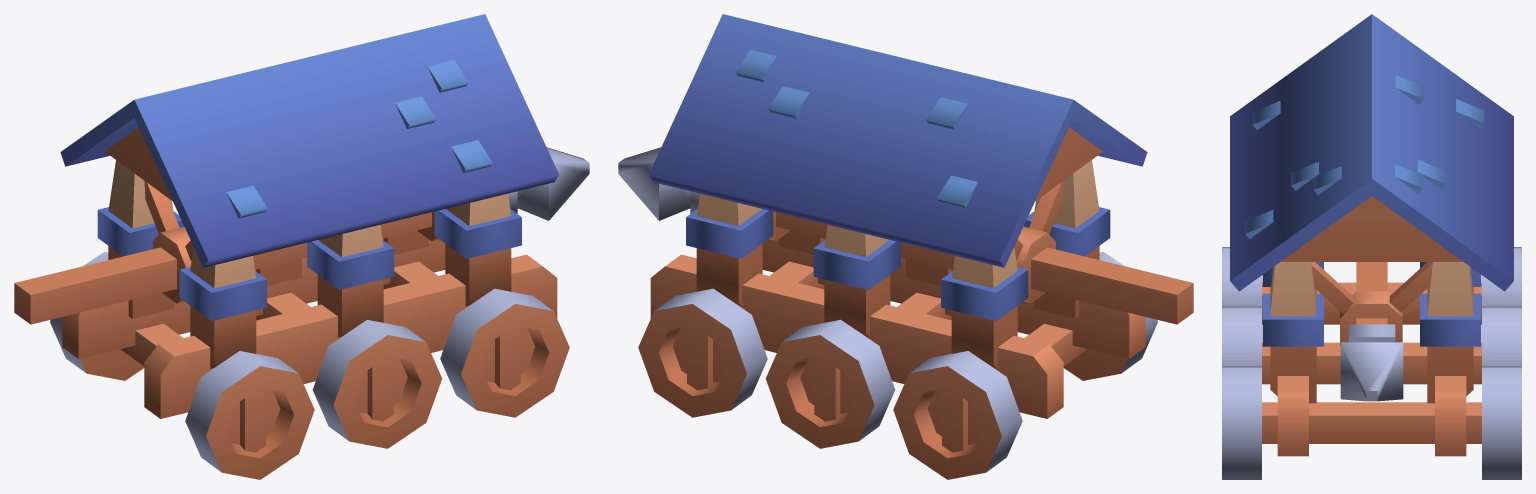
Rendered from siege-ram.glb.
The picture shows the model from 3 angles, left to right: view 1: azimuth 30°, elevation 25°; view 2: azimuth 150°, elevation 25°; view 3: azimuth 270°, elevation 25°; orthographic projection. The views are drawn at different scales.
Visible parts, largest first — view 1: siege-ram, wheel (×4), ram; view 2: siege-ram, wheel (×4), ram; view 3: siege-ram, wheel (×6), ram.
Part boxes in pixels (box(x1,y1,x2,y2)): siege-ram: box(60, 14, 558, 418); wheel (×4): box(50, 252, 569, 479); ram: box(14, 147, 589, 324); siege-ram: box(649, 14, 1147, 418); wheel (×4): box(638, 252, 1157, 479); ram: box(618, 147, 1193, 324); siege-ram: box(1230, 14, 1513, 456); wheel (×6): box(1222, 247, 1521, 479); ram: box(1340, 262, 1403, 401).
Size of the model in its own units: 2.09 by 1.18 by 1.
Materials: 1 (1 with a texture image).
